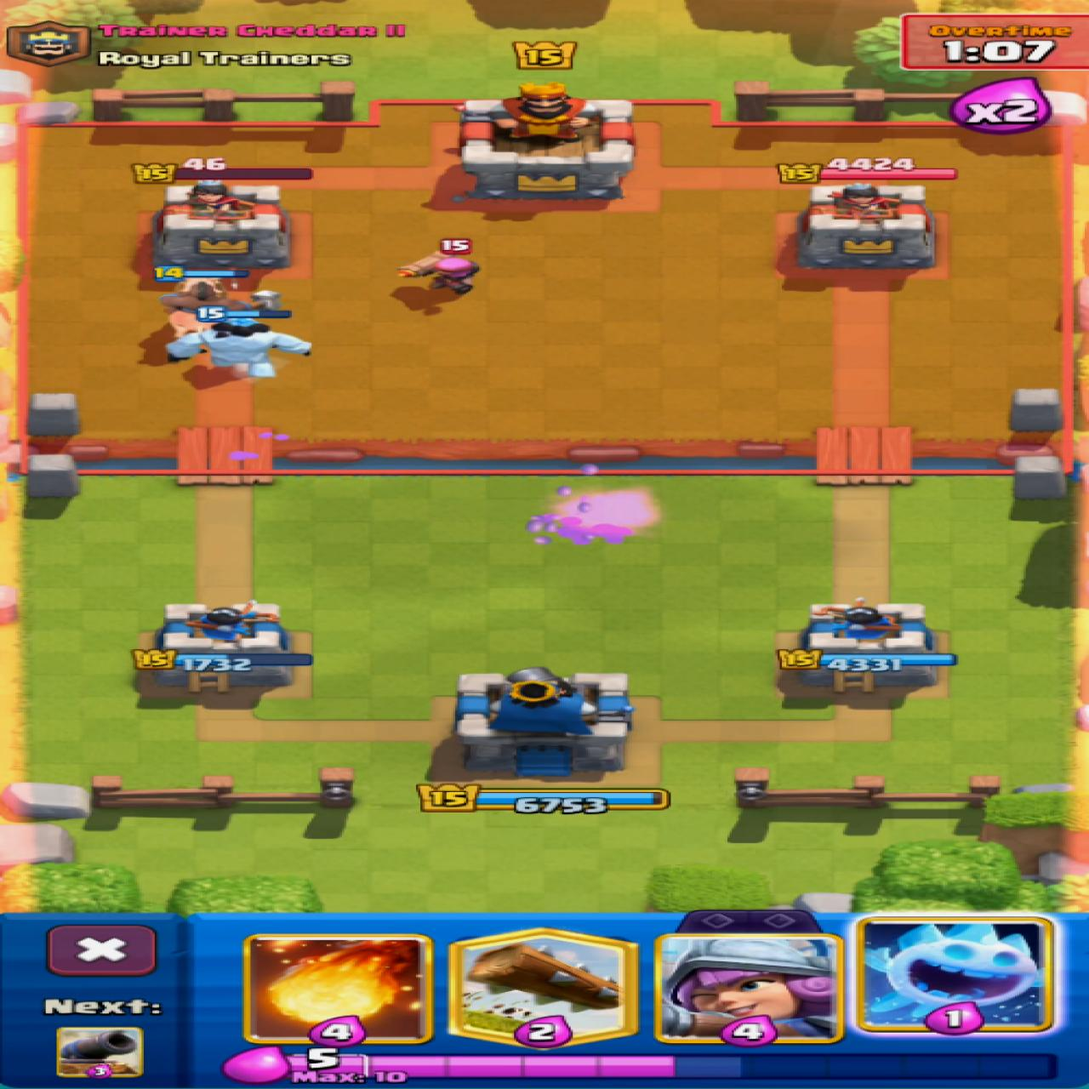Enemy-Firecracker: (401, 241, 477, 293)
Enemy-KingTower: (460, 84, 634, 198)
Enemy-PrincessTower: (155, 186, 290, 276), (797, 182, 932, 271)
